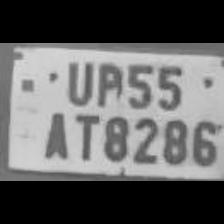2: (129, 112, 159, 166)
5: (122, 60, 154, 108), (152, 62, 184, 108)
6: (188, 114, 218, 168)
8: (100, 110, 130, 164), (160, 114, 188, 166)
A: (38, 107, 70, 161)
P: (93, 58, 123, 106)
T: (67, 108, 99, 160)
U: (62, 57, 94, 104)
